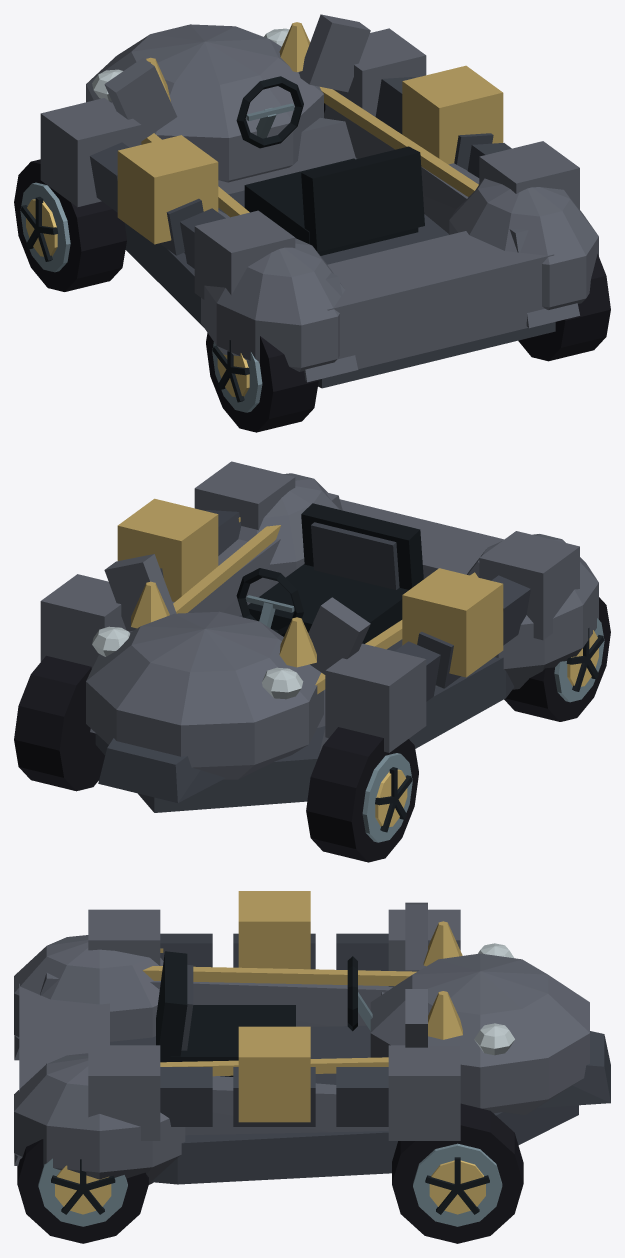
Rendered from kart.glb.
3 renders of one model, top to bottom at view 1: azimuth 30°, elevation 25°; view 2: azimuth 150°, elevation 25°; view 3: azimuth 270°, elevation 25°, orthographic. The views are drawn at different scales.
Visible parts, largest first — view 1: identity-beast-beast-sculpted-prow-and-haunches, identity-beast-motif-blocks, identity-beast-driver-cockpit, wheel-front-left, wheel-rear-left, identity-beast-motif-armor, wheel-rear-right; view 2: identity-beast-beast-sculpted-prow-and-haunches, identity-beast-motif-blocks, identity-beast-driver-cockpit, wheel-front-left, wheel-front-right, wheel-rear-left, identity-beast-motif-armor; view 3: identity-beast-beast-sculpted-prow-and-haunches, identity-beast-motif-blocks, wheel-front-right, identity-beast-motif-armor, identity-beast-driver-cockpit, wheel-rear-right.
Part boxes in pixels (box(x1,y1,x2,y2)): identity-beast-beast-sculpted-prow-and-haunches: box(86, 14, 598, 388); identity-beast-motif-blocks: box(40, 28, 579, 299); identity-beast-driver-cockpit: box(236, 76, 424, 255); wheel-front-left: box(14, 159, 126, 291); wheel-rear-left: box(206, 333, 318, 432); identity-beast-motif-armor: box(90, 77, 511, 268); wheel-rear-right: box(518, 254, 610, 361); identity-beast-beast-sculpted-prow-and-haunches: box(86, 473, 598, 812); identity-beast-motif-blocks: box(40, 461, 579, 752); identity-beast-driver-cockpit: box(236, 503, 423, 643); wheel-front-left: box(306, 727, 418, 862); wheel-front-right: box(14, 655, 104, 791); wheel-rear-left: box(504, 597, 610, 721); identity-beast-motif-armor: box(160, 510, 530, 701); identity-beast-beast-sculpted-prow-and-haunches: box(14, 902, 610, 1184); identity-beast-motif-blocks: box(88, 891, 460, 1140); wheel-front-right: box(392, 1103, 523, 1243); identity-beast-motif-armor: box(160, 933, 388, 1126); identity-beast-driver-cockpit: box(156, 951, 372, 1076); wheel-rear-right: box(17, 1139, 148, 1243).
Bounding box in the file's own units: 2.01 × 1.16 × 2.9.
